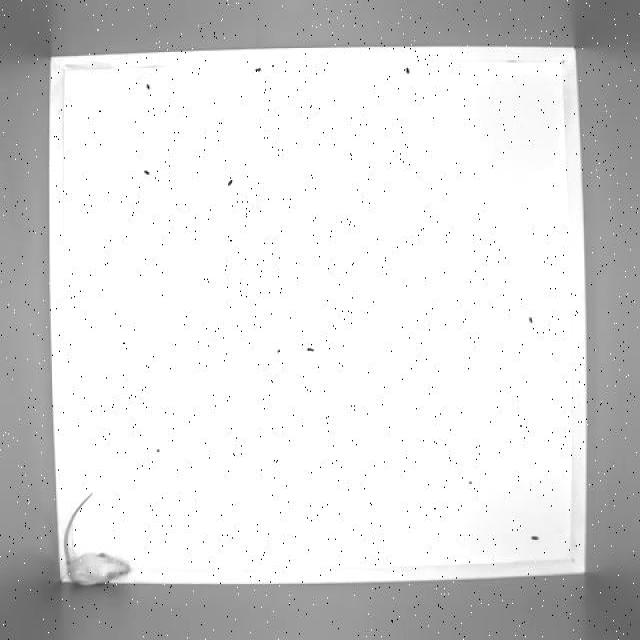rat: (61, 486, 135, 590)
